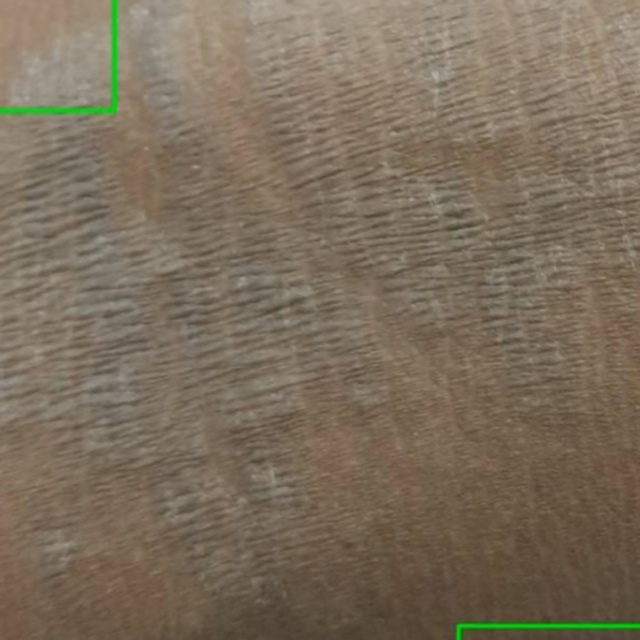Tinea Corporis: (0, 0, 114, 110)
